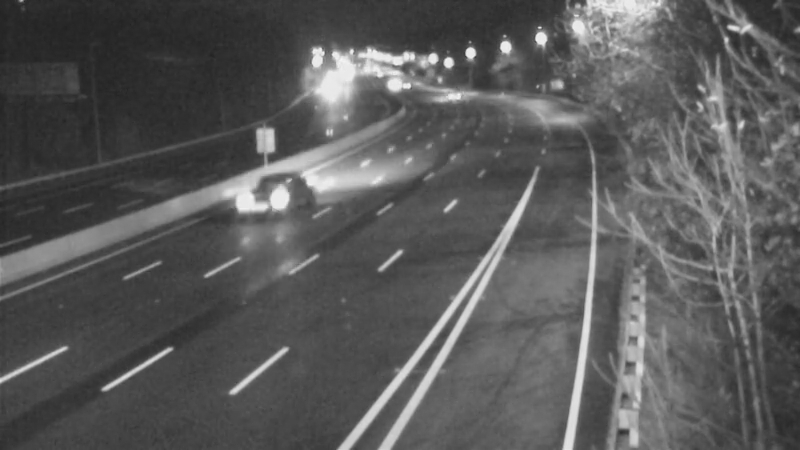vehicle: (222, 160, 302, 240), (360, 58, 410, 108), (382, 59, 432, 109), (428, 68, 478, 118)
